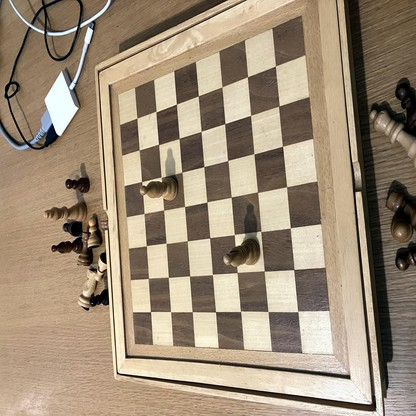bishop_white: (224, 239, 260, 267), (140, 179, 179, 200), (52, 237, 84, 254)
king_white: (44, 202, 87, 219)
knight_white: (78, 269, 99, 310)
pawn_black: (66, 179, 89, 192), (63, 222, 81, 236)
pawn_white: (390, 215, 413, 242), (88, 217, 102, 248), (96, 254, 109, 280)
queen_white: (370, 104, 416, 160)
